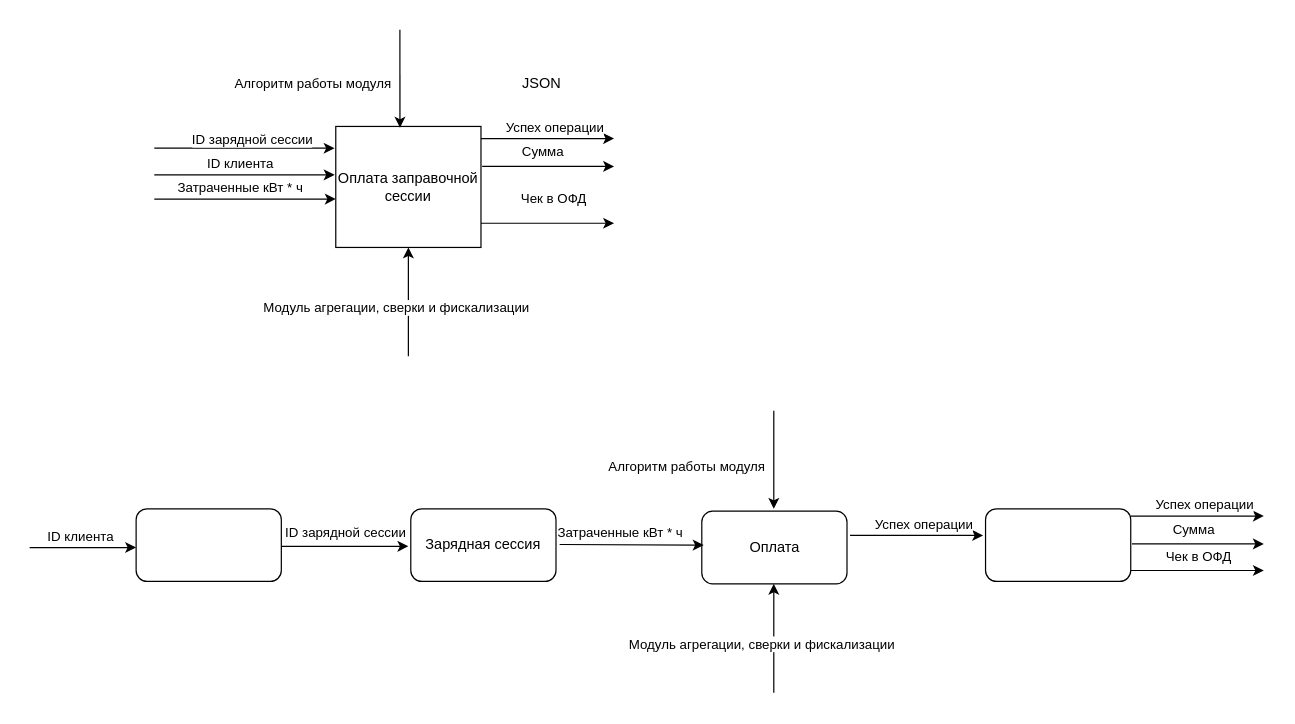
Image size: 1295x724. Some labels were removed from this diagram. The shapes that lost their labels are listed below. From the top down, each one's centre as x and y in pixels, then its label:
[208,544]: Инициализация зарядной сессии
[1057,544]: Формирование чека
